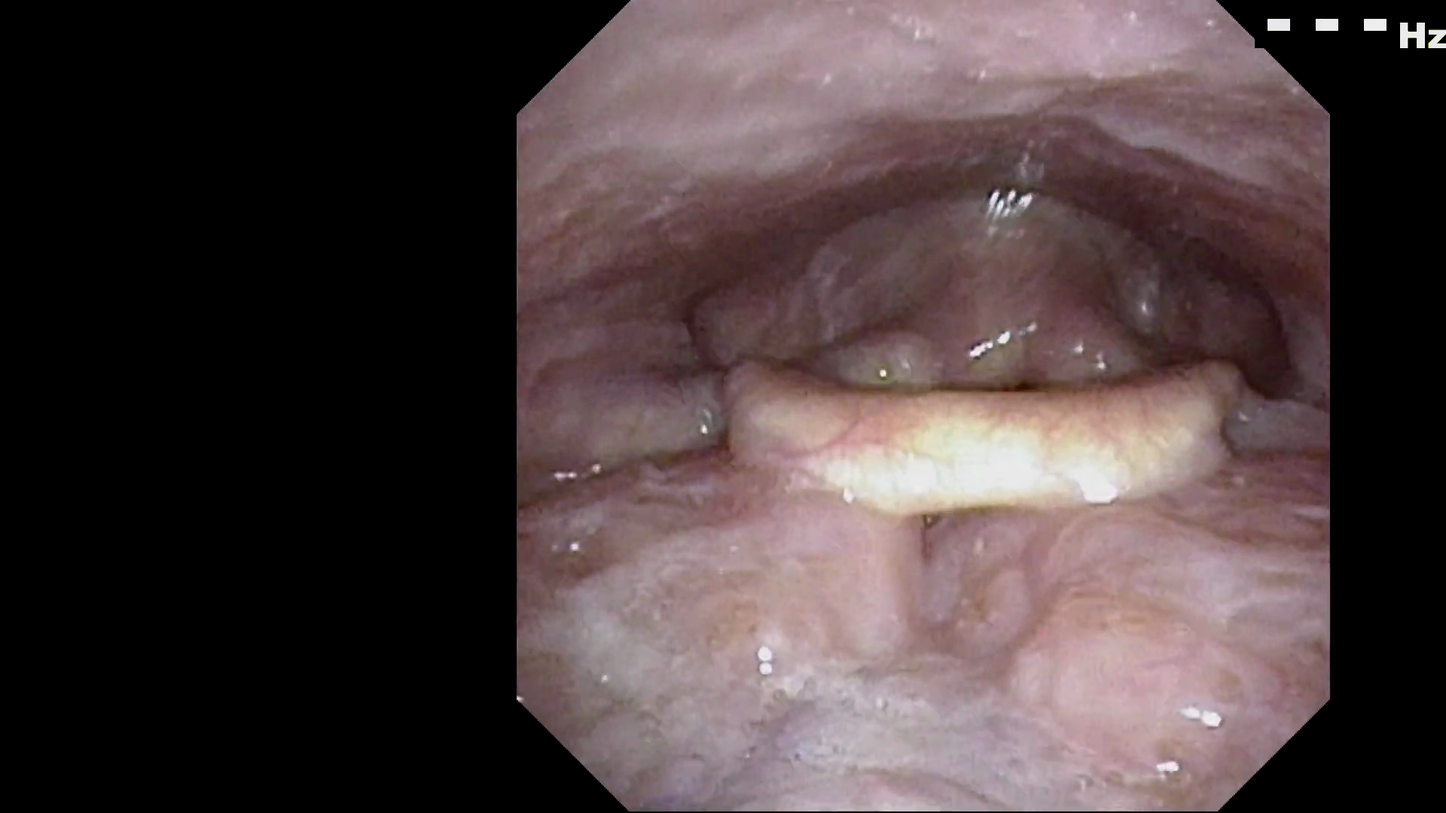epiglottis: (711, 328, 1283, 582)
trachea: (942, 345, 1061, 468)
